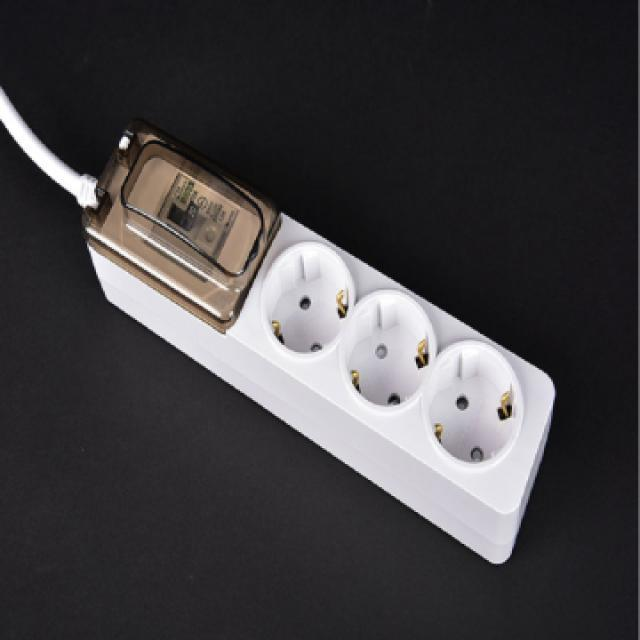typeb: (57, 84, 604, 563)
